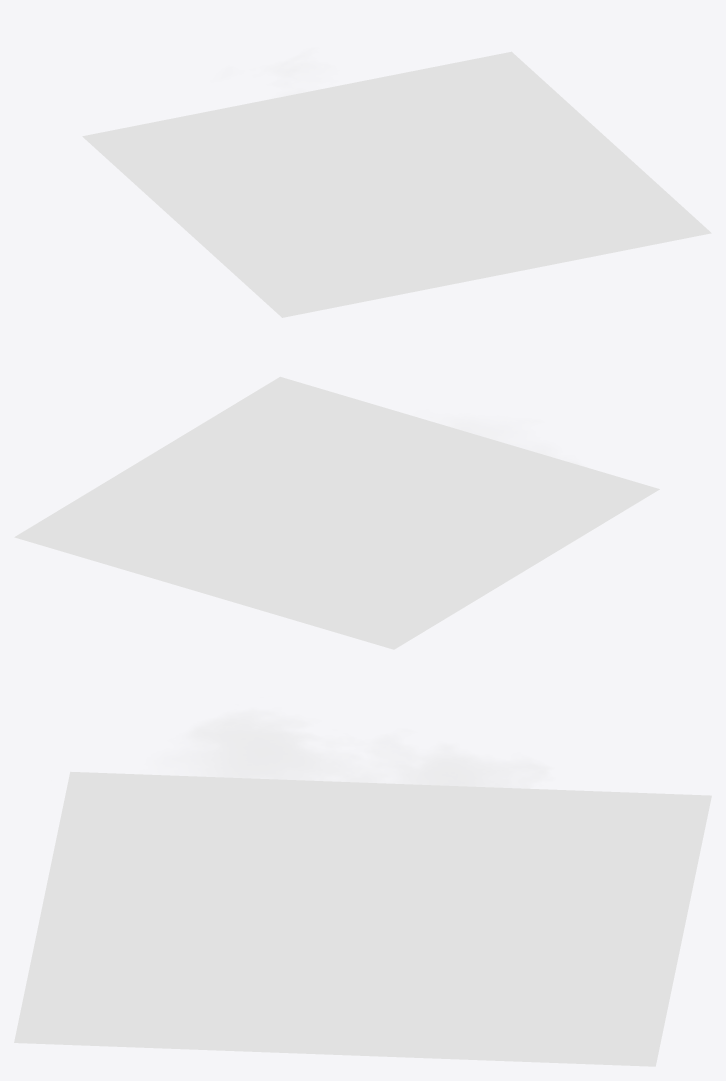
File: cloud2.glb
The picture shows the model from 3 angles, top to bottom: view 1: azimuth 30°, elevation 25°; view 2: azimuth 150°, elevation 25°; view 3: azimuth 270°, elevation 25°; orthographic projection. The views are drawn at different scales.
Visible parts, largest first — view 1: cloud_06_Cloud_01_0, cloud_03_cloud_00_0; view 2: cloud_06_Cloud_01_0, cloud_03_cloud_00_0; view 3: cloud_06_Cloud_01_0, cloud_03_cloud_00_0.
Part boxes in pixels (x1,y1,x2,y2): cloud_06_Cloud_01_0: (82, 51, 711, 317); cloud_03_cloud_00_0: (194, 56, 440, 227); cloud_06_Cloud_01_0: (14, 376, 659, 649); cloud_03_cloud_00_0: (222, 420, 590, 545); cloud_06_Cloud_01_0: (14, 771, 711, 1066); cloud_03_cloud_00_0: (133, 710, 652, 869).
Bounding box in the file's own units: 360 × 34.16 × 329.
2 materials, 2 textured.
